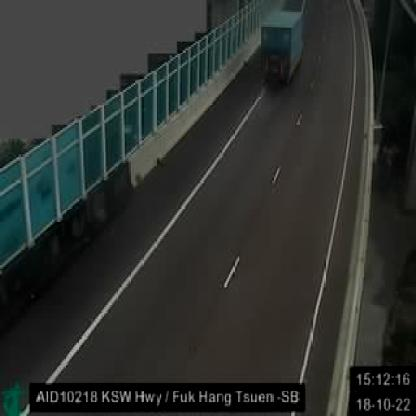Truck: (258, 0, 307, 88)
